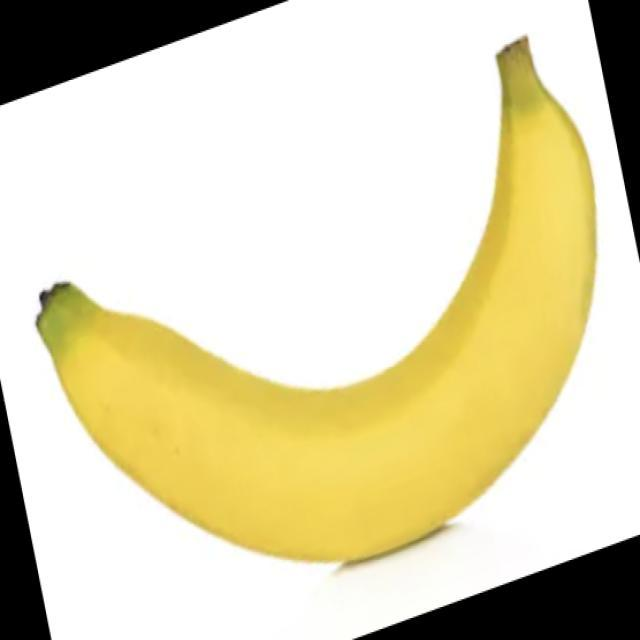Banana: (34, 33, 598, 565)
